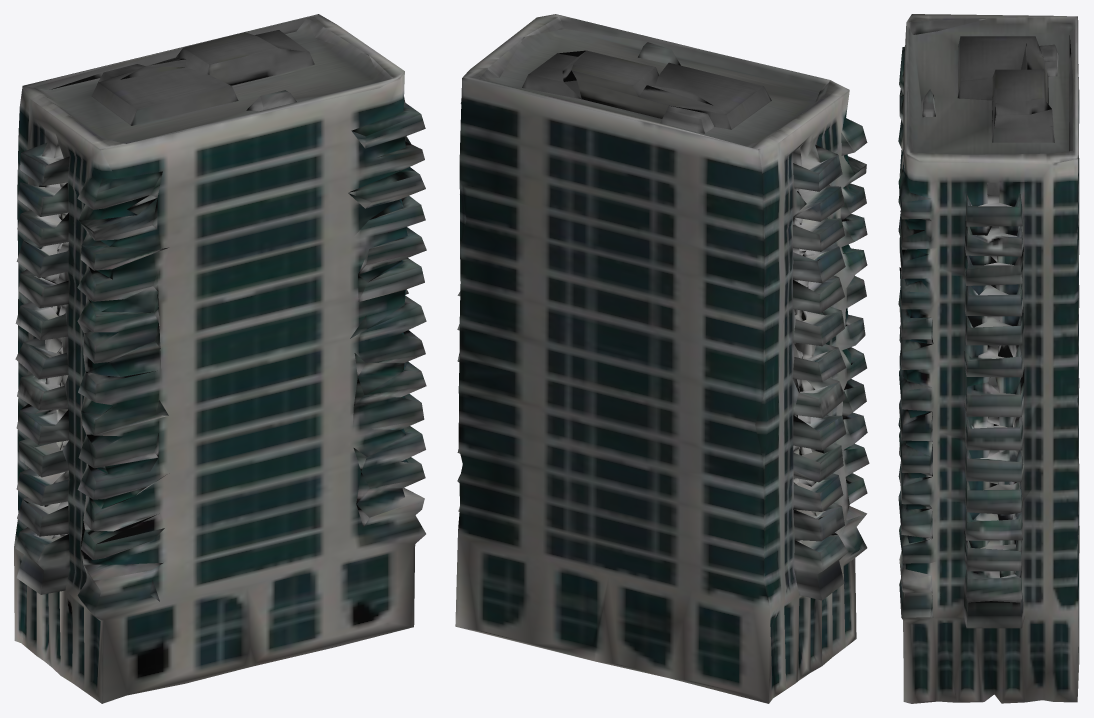
The model's file is renelle_403_n_wabash.glb.
The picture shows the model from 3 angles, left to right: view 1: azimuth 30°, elevation 25°; view 2: azimuth 150°, elevation 25°; view 3: azimuth 270°, elevation 25°; orthographic projection.
Visible parts, largest first — view 1: renelle_403_n_wabash; view 2: renelle_403_n_wabash; view 3: renelle_403_n_wabash.
Boxes of the visible parts, bbox=[...] form: renelle_403_n_wabash: bbox=[14, 14, 426, 703]; renelle_403_n_wabash: bbox=[455, 14, 869, 703]; renelle_403_n_wabash: bbox=[898, 14, 1079, 703].
Size of the model in its own units: 46 by 68 by 20.
Materials: 1 (1 with a texture image).
